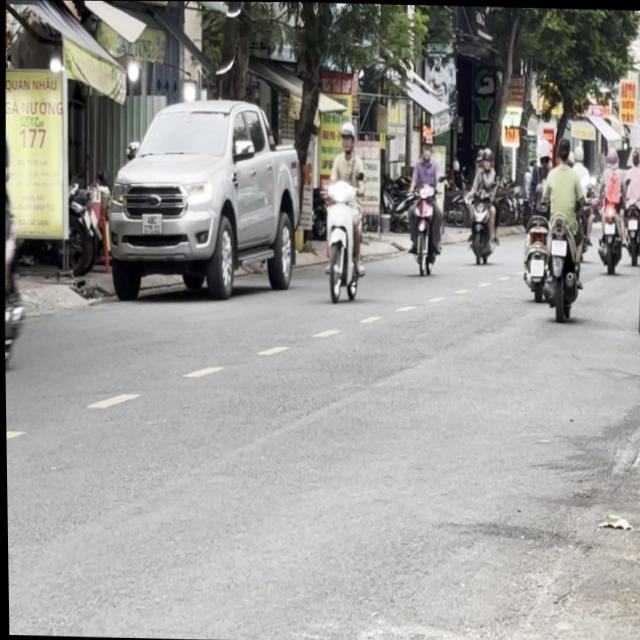helmet: (337, 119, 355, 154)
licenseplate: (317, 116, 368, 304)
